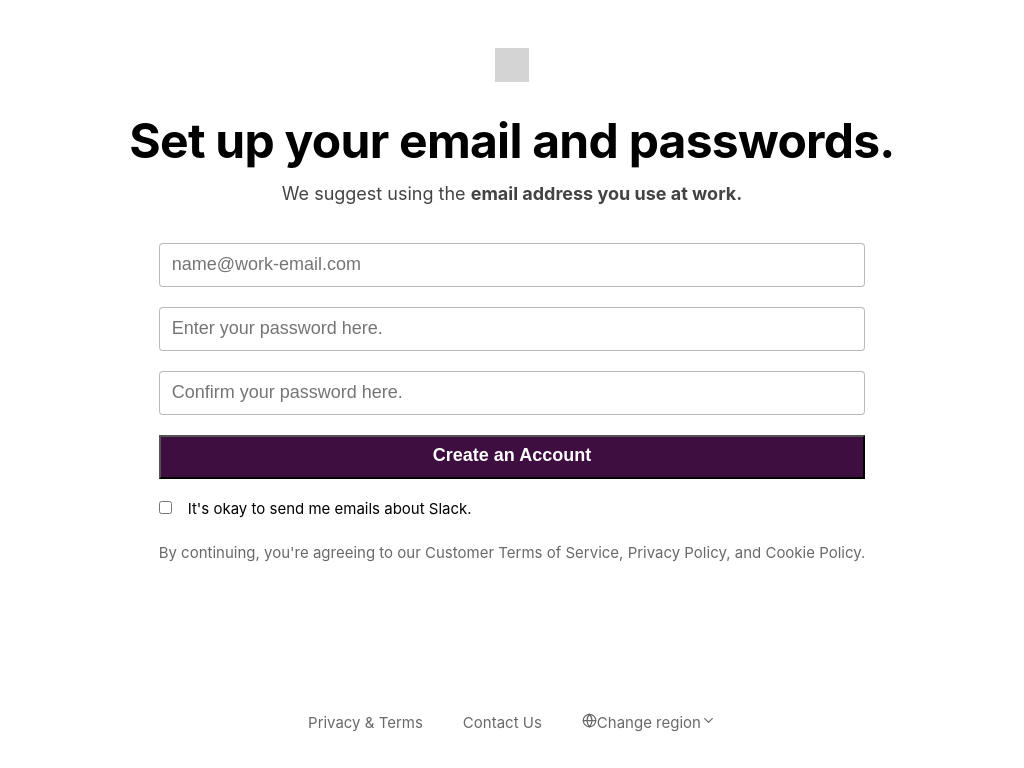
Test for registering user › Resolve POST request to return error
Click the button "Create an Account".
click(512, 457)  # box [159,435,865,479]
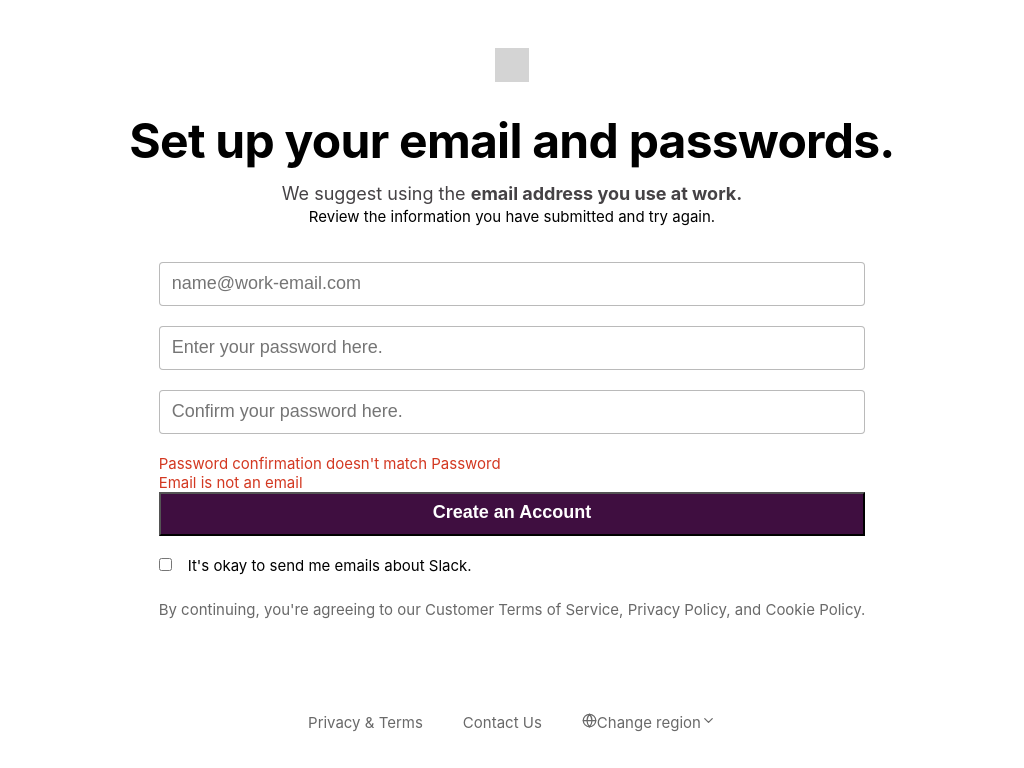
Now the text "Password confirmation doesn't match Password" is shown, box [159,454,501,473]
Now the text "Email is not an email" is shown, box [159,473,303,492]
